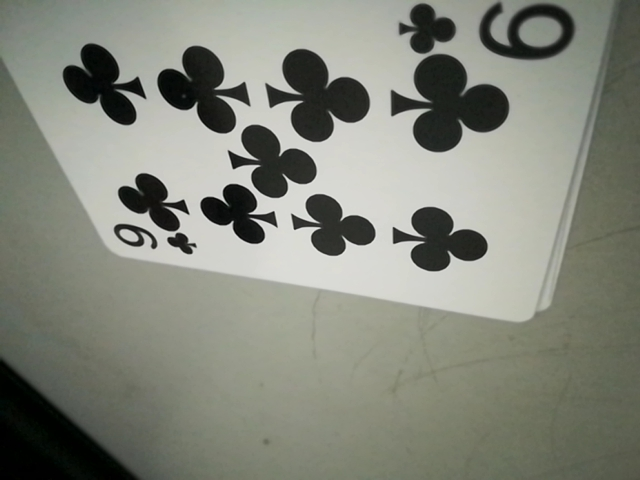mh 9: (397, 0, 582, 59), (108, 224, 201, 262)
